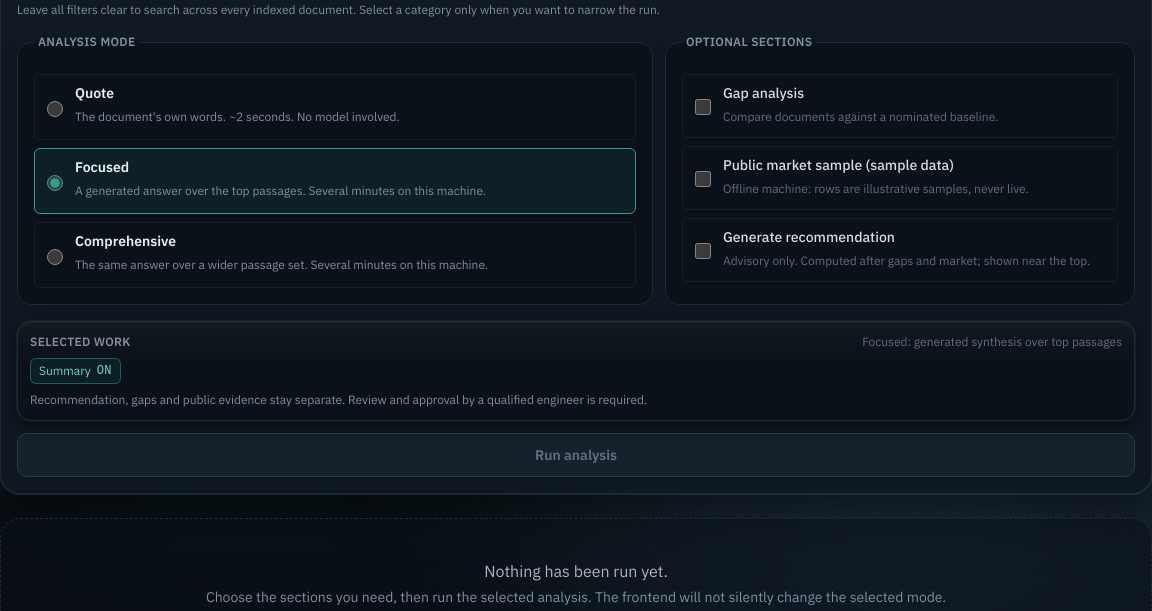
Test: AnalysisModeScreen: rules that must hold on screen › RULE 2: a confidence of 'high' from the backend never reaches the screen
The width and height of the screenshot is (1152, 611).
(page scrolled)
Click the checkbox labelled "Generate recommendation". click: (703, 251)
box: [695,229,711,273]
(page scrolled)
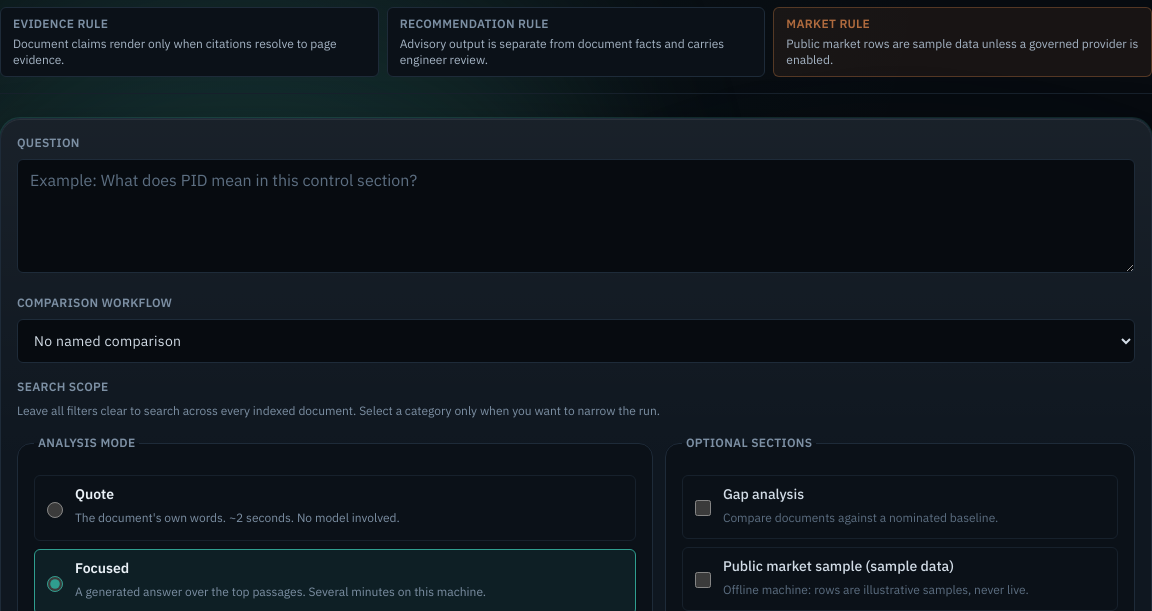
Type "what is the pressure floor" into the text box labelled "Question". click: (576, 216)
box: [17,159,1135,273]
(page scrolled)
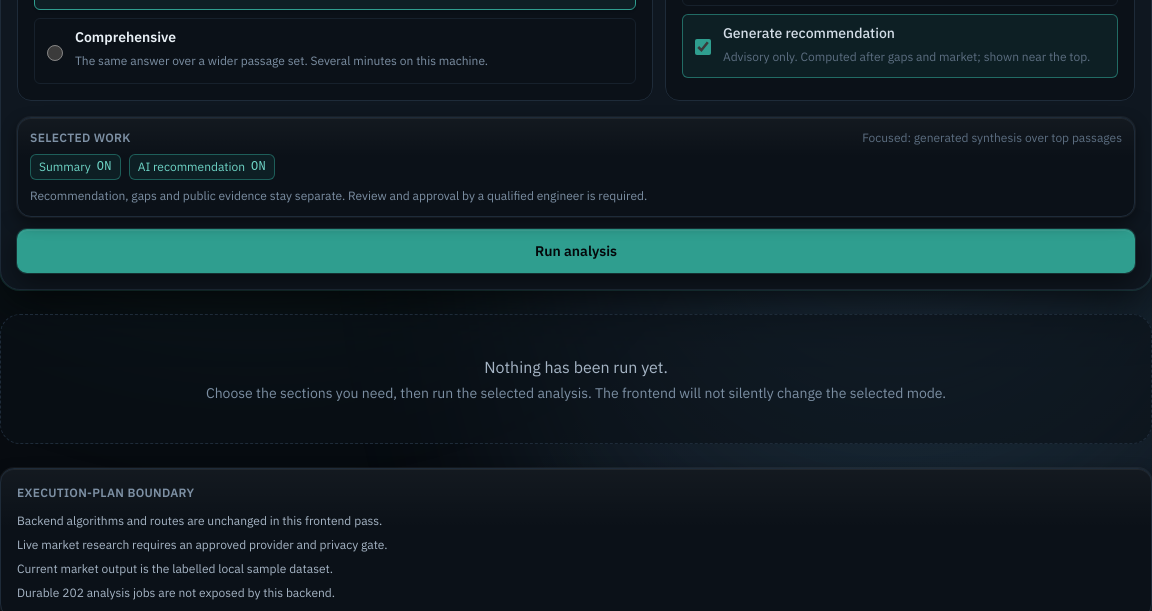
Click the button "Run analysis". click: (576, 251)
box: [17,229,1135,273]
(page scrolled)
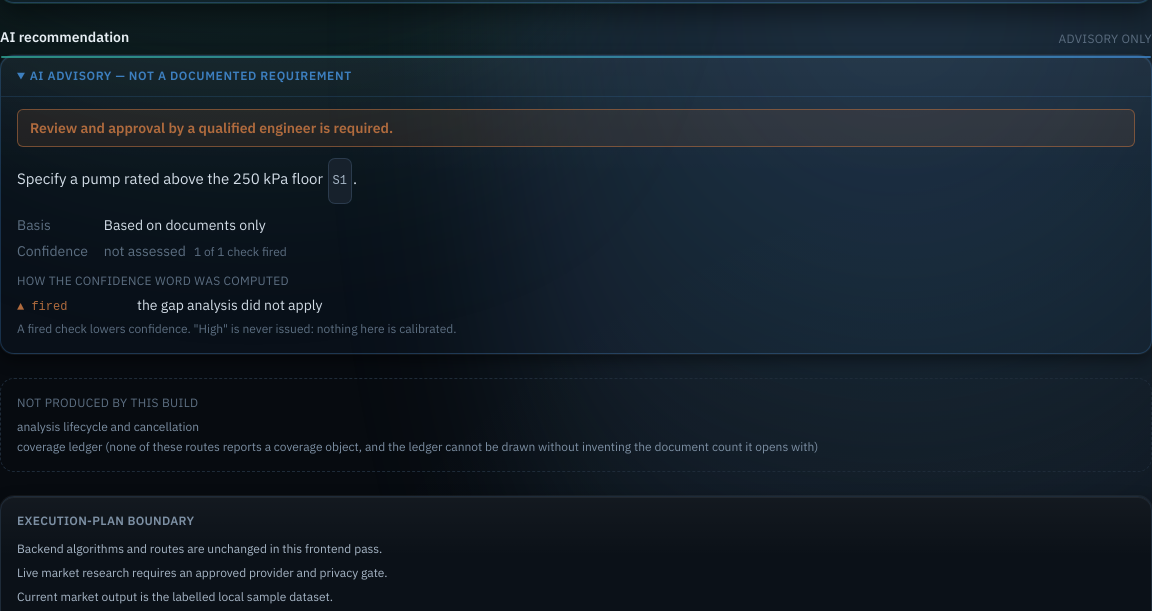
Expected: the heading "AI Advisory — not a documented requirement" is shown, [30,68,352,83]
Expected: the text "not assessed" is shown, [104,242,186,260]
